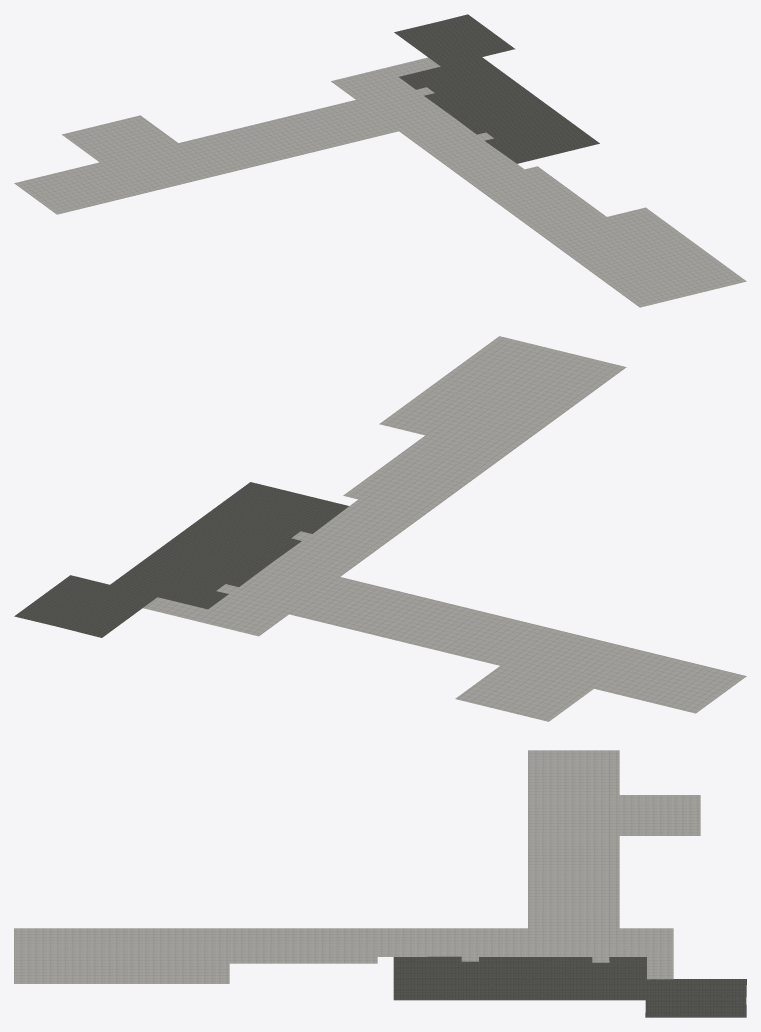
The model's file is pisoPasillo2020.FBX.
3 renders of one model, top to bottom at view 1: azimuth 30°, elevation 25°; view 2: azimuth 150°, elevation 25°; view 3: azimuth 270°, elevation 25°, orthographic. The views are drawn at different scales.
Parts seen in each view (by area): view 1: PISO PASILLO; view 2: PISO PASILLO; view 3: PISO PASILLO.
Part boxes in pixels (left/top/right/bottom): PISO PASILLO: left=14, top=14, right=746, bottom=307; PISO PASILLO: left=14, top=336, right=746, bottom=721; PISO PASILLO: left=14, top=750, right=746, bottom=1017.
Bounding box in the file's own units: 5382 × 3.69e-13 × 6237.
2 materials, 2 textured.
